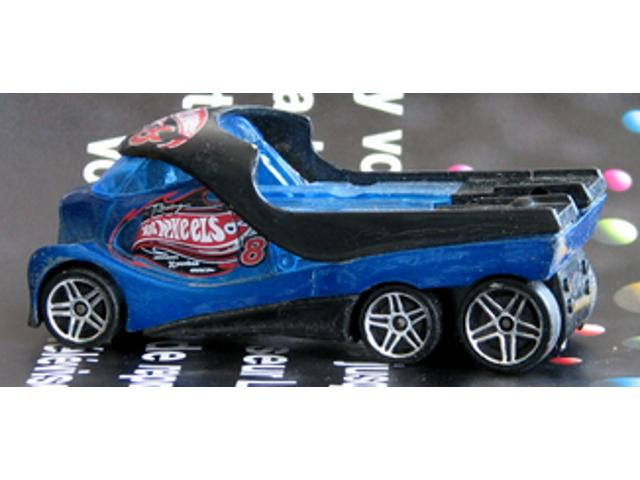toy-car: (24, 102, 608, 378)
